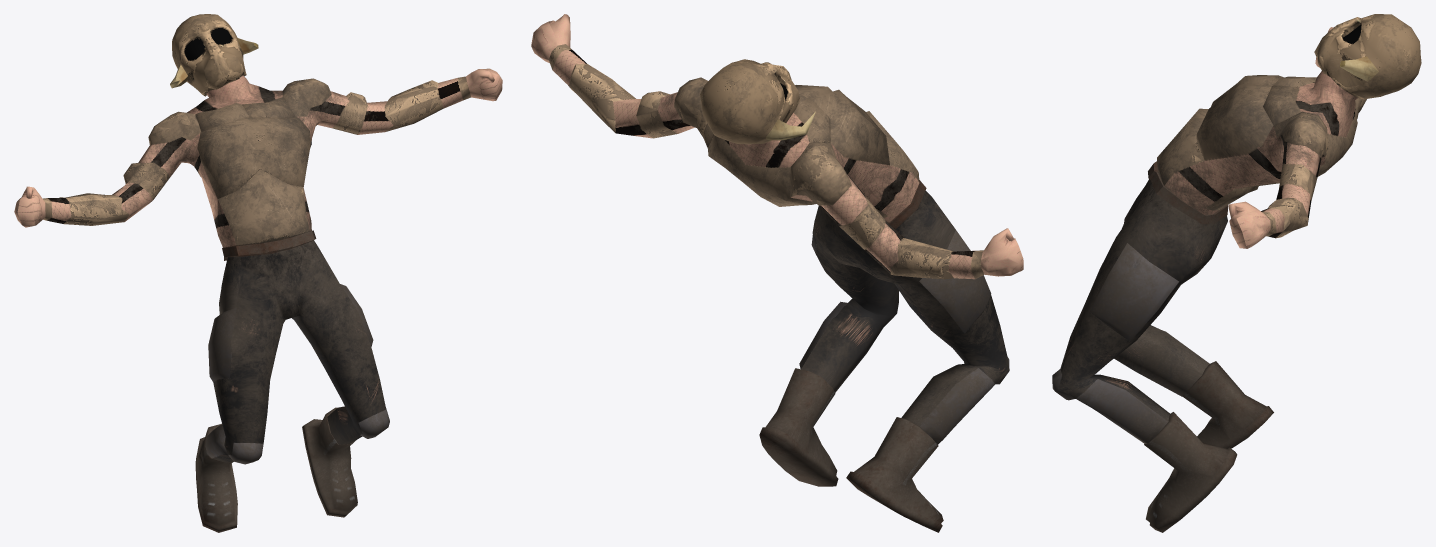
The model's file is Anim_morir_npc1.0020.obj.
3 views of the same model, side by side, from view 1: azimuth 30°, elevation 25°; view 2: azimuth 150°, elevation 25°; view 3: azimuth 270°, elevation 25° (orthographic). The views are drawn at different scales.
Parts seen in each view (by area): view 1: NPC2; view 2: NPC2; view 3: NPC2.
Boxes of the visible parts, left/top/right/bottom form: NPC2: left=14, top=14, right=502, bottom=532; NPC2: left=531, top=14, right=1023, bottom=532; NPC2: left=1052, top=14, right=1421, bottom=532.
Bounding box in the file's own units: 7.95 × 7.4 × 5.05.
